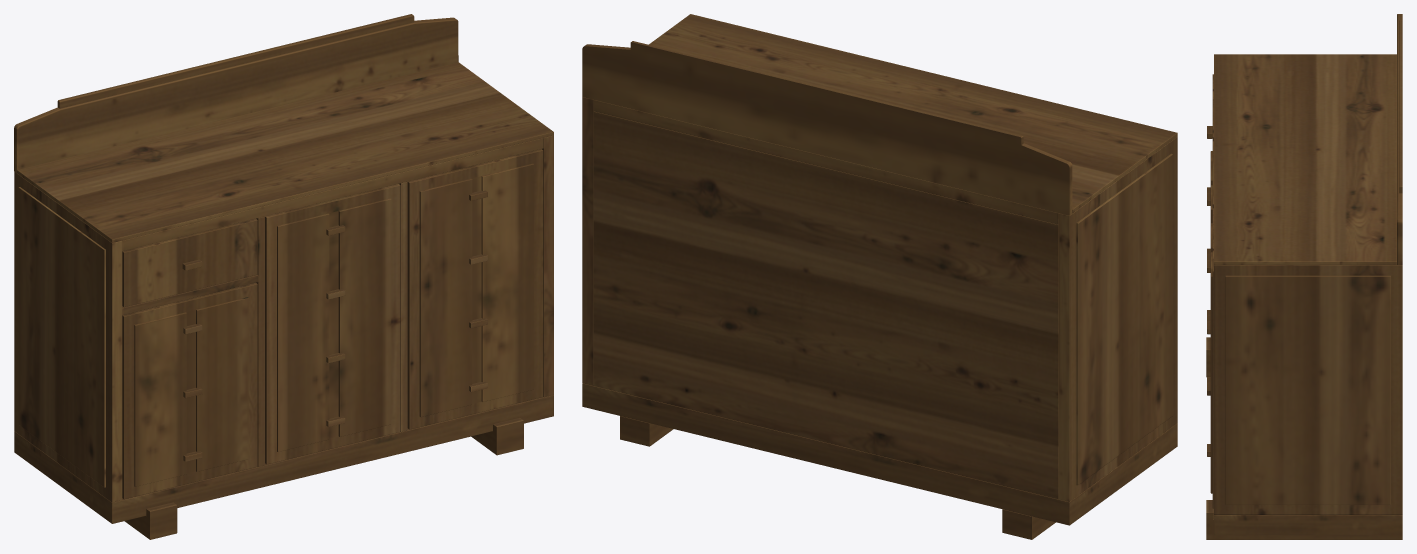
File: raw_model.obj
The picture shows the model from 3 angles, left to right: view 1: azimuth 30°, elevation 25°; view 2: azimuth 150°, elevation 25°; view 3: azimuth 270°, elevation 25°; orthographic projection. The views are drawn at different scales.
Visible parts, largest first — view 1: solid_001; view 2: solid_001; view 3: solid_001.
Part boxes in pixels (bbox=[...]): solid_001: bbox=[14, 14, 553, 539]; solid_001: bbox=[582, 14, 1177, 539]; solid_001: bbox=[1206, 14, 1402, 539].
Size of the model in its own units: 0.9941 by 0.774 by 0.3946.
1 material, 1 textured.
